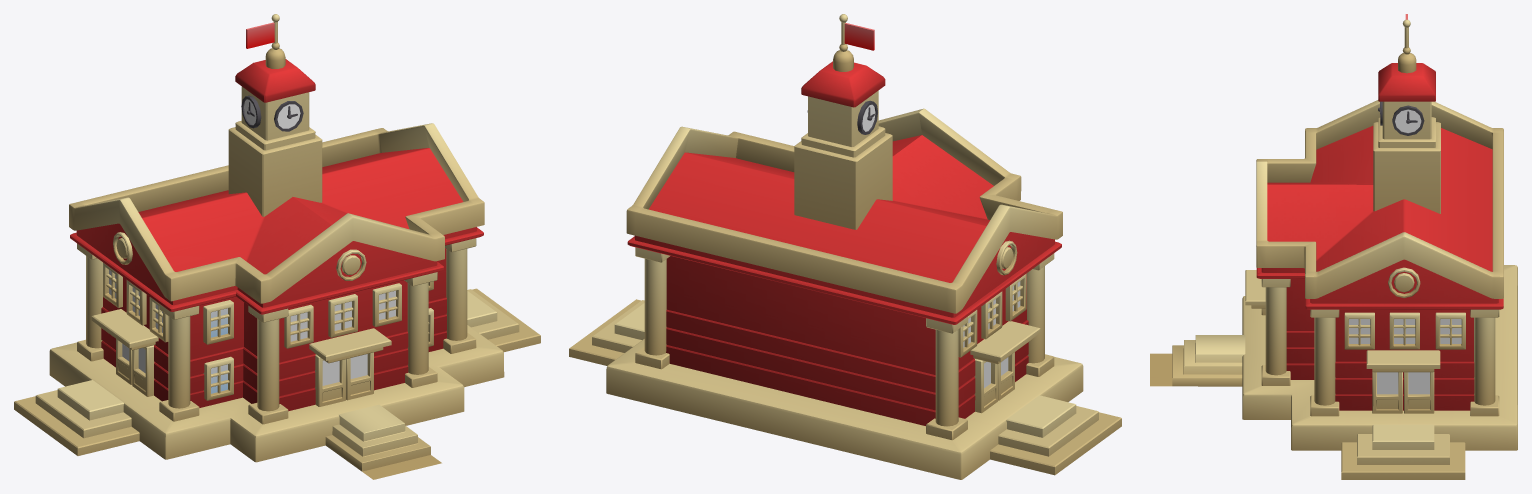
File: Building-CityHall.fbx
3 renders of one model, left to right at view 1: azimuth 30°, elevation 25°; view 2: azimuth 150°, elevation 25°; view 3: azimuth 270°, elevation 25°, orthographic. The views are drawn at different scales.
Parts seen in each view (by area): view 1: Building_CityHall; view 2: Building_CityHall; view 3: Building_CityHall.
Boxes of the visible parts, x1,y1,x2,y2 form: Building_CityHall: (14, 14, 540, 479); Building_CityHall: (569, 14, 1121, 479); Building_CityHall: (1150, 14, 1517, 479).
Bounding box in the file's own units: 2660 × 1980 × 1884.
